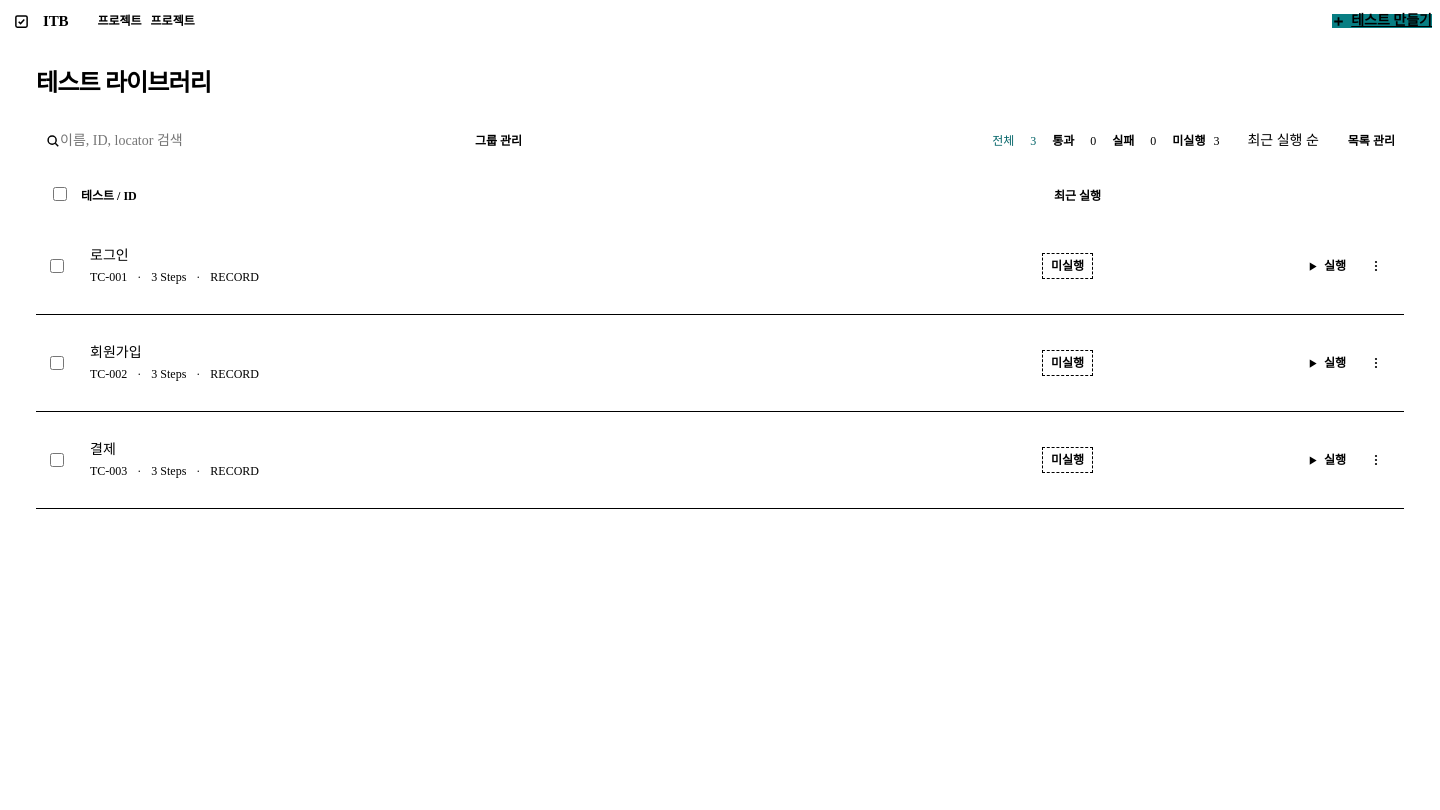
Test: 확인과 완료 › 확인 문구가 개수와 이름을 함께 말한다 (FR-430)
The width and height of the screenshot is (1440, 810).
Expected: the text "로그인" is shown, [90,248,129,263]
What coordinates should you click on to do the following:
click the checkbox named "로그인 선택"
I would click on:
 (57, 266)
Its box is [50,259,64,273].
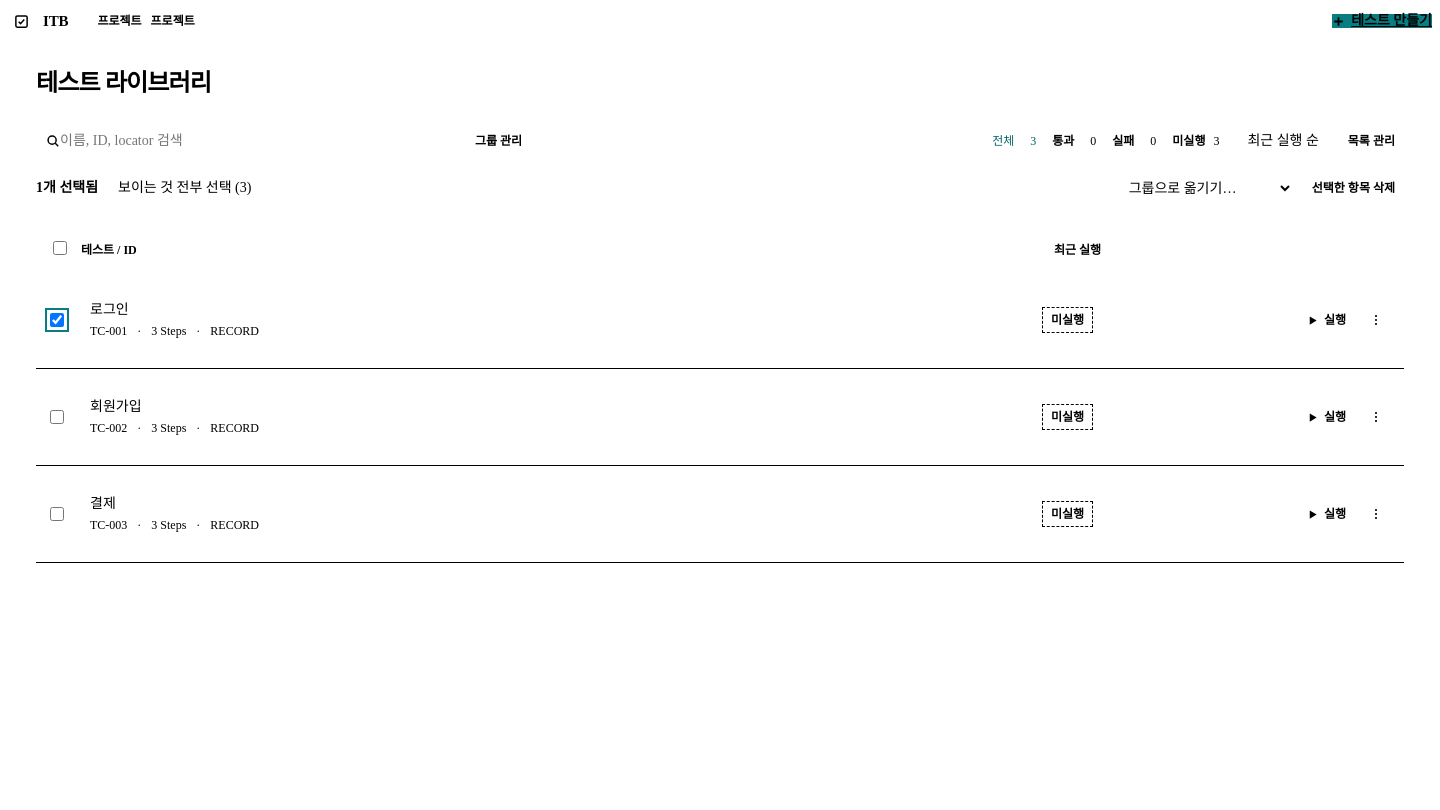
What coordinates should you click on to do the following:
click the checkbox named "회원가입 선택"
I would click on:
 (57, 417)
Its box is [50,410,64,424].
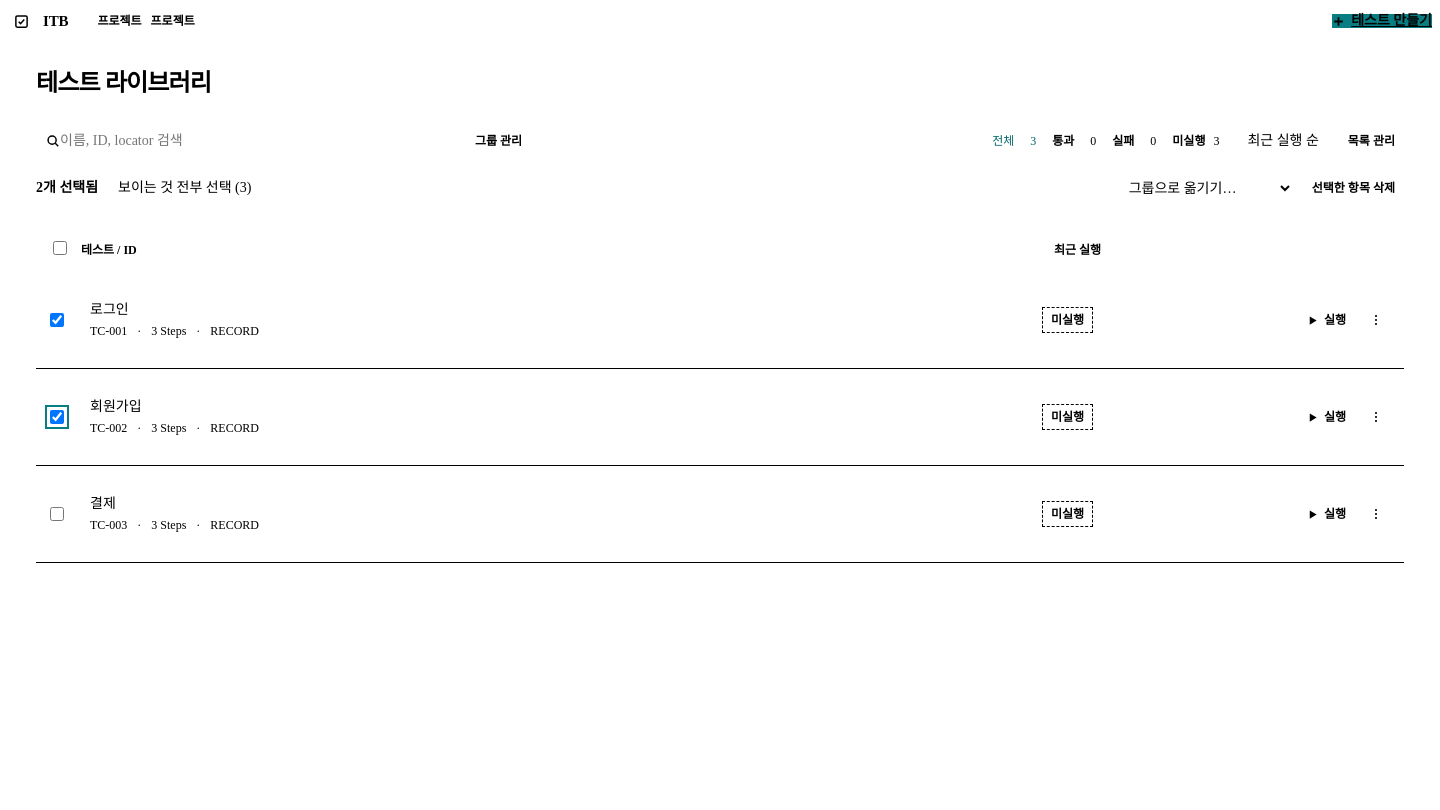
Expected: the element showing "2개 선택됨 보이는 것 전부 선택 (3) 선택한 항목 삭제" is shown, [36,174,1404,202]
What coordinates should you click on to do the following:
click the button "선택한 항목 삭제"
I would click on:
 (1353, 188)
Its box is [1303,181,1404,195].
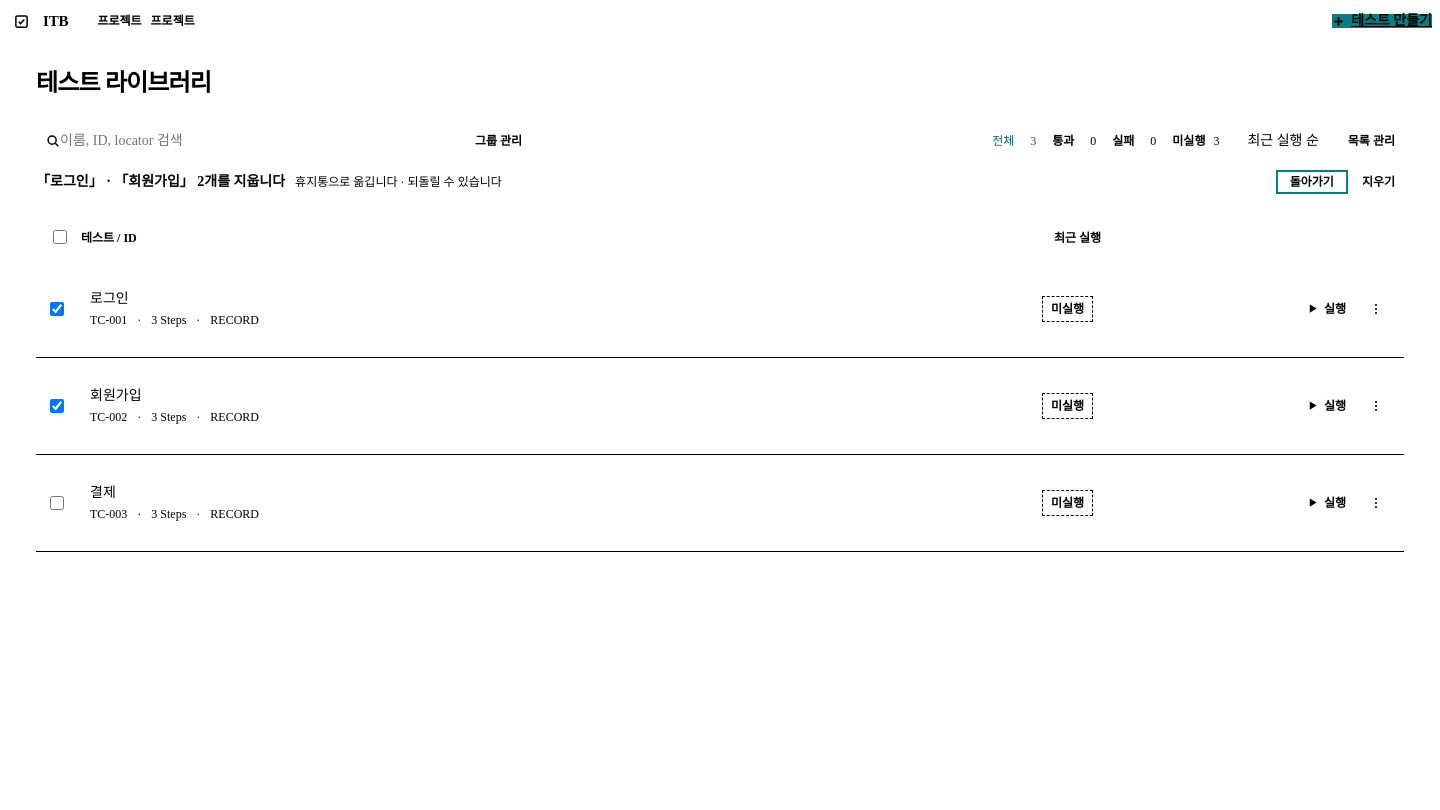
Expected: the message "「로그인」 · 「회원가입」 2개를 지웁니다 휴지통으로 옮깁니다 · 되돌릴 수 있습니다 돌아가기 지우기" is shown, [36,174,1404,191]
